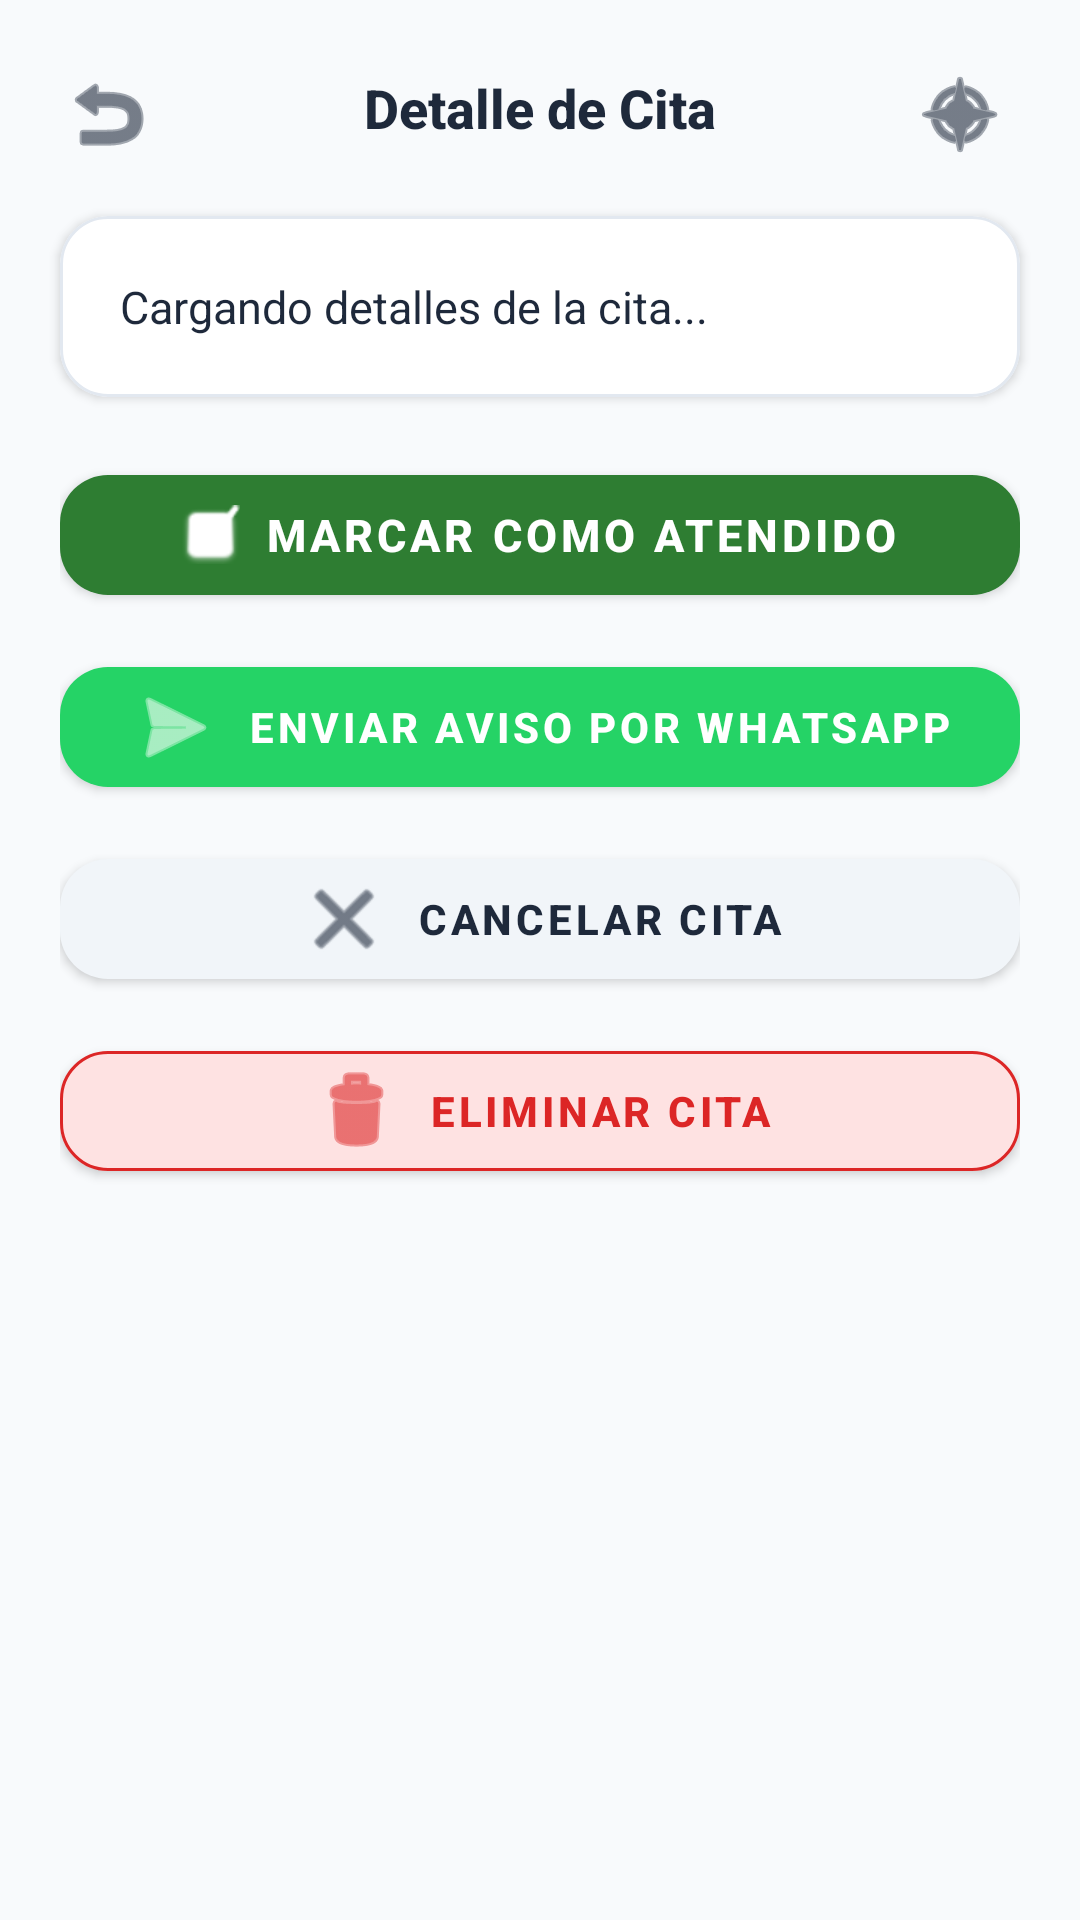

Where to tap for icons on this 1080×1920 app screen, as point (x, y):
compass: point (960, 114)
revert: point (109, 114)
